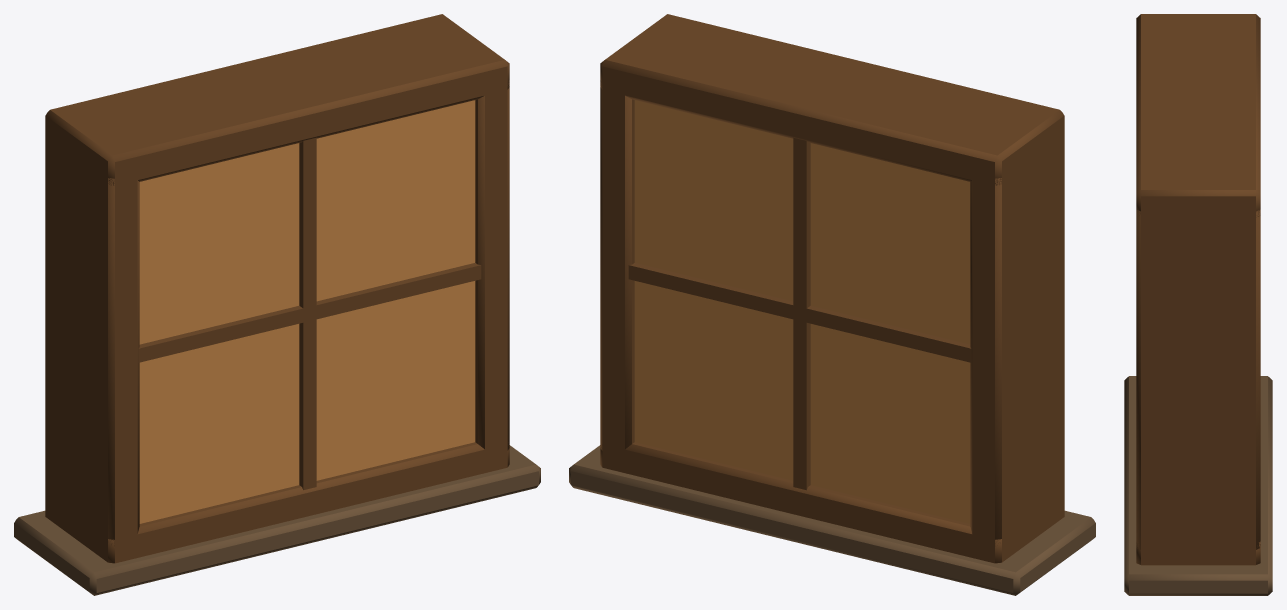
The model's file is window.glb.
The picture shows the model from 3 angles, left to right: view 1: azimuth 30°, elevation 25°; view 2: azimuth 150°, elevation 25°; view 3: azimuth 270°, elevation 25°; orthographic projection. The views are drawn at different scales.
Parts seen in each view (by area): view 1: window; view 2: window; view 3: window.
Boxes of the visible parts, left/top/right/bottom form: window: left=14, top=14, right=540, bottom=595; window: left=569, top=14, right=1095, bottom=595; window: left=1124, top=14, right=1272, bottom=595.
Size of the model in its own units: 2 by 1.82 by 0.62.
